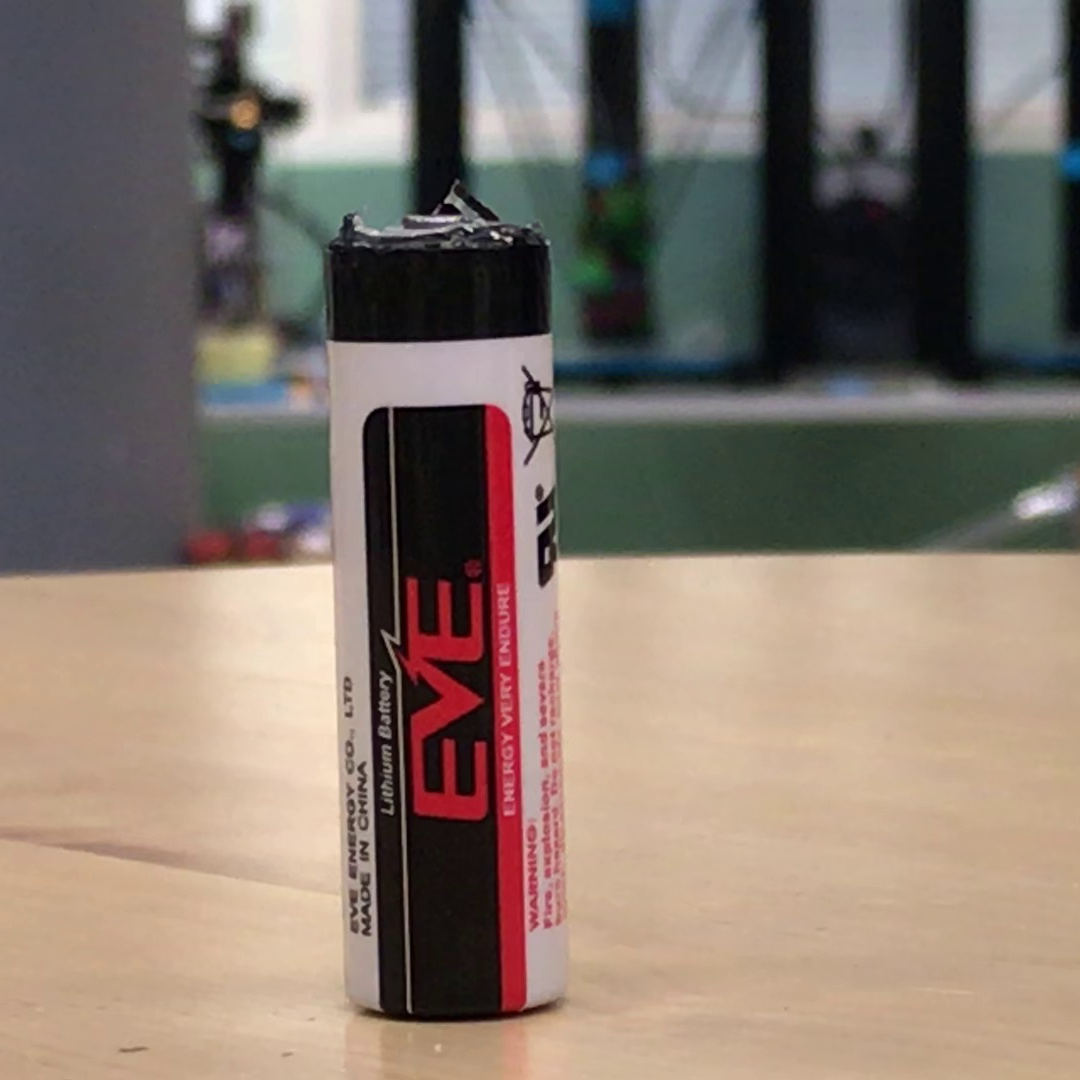keyword: (373, 741, 403, 824)
